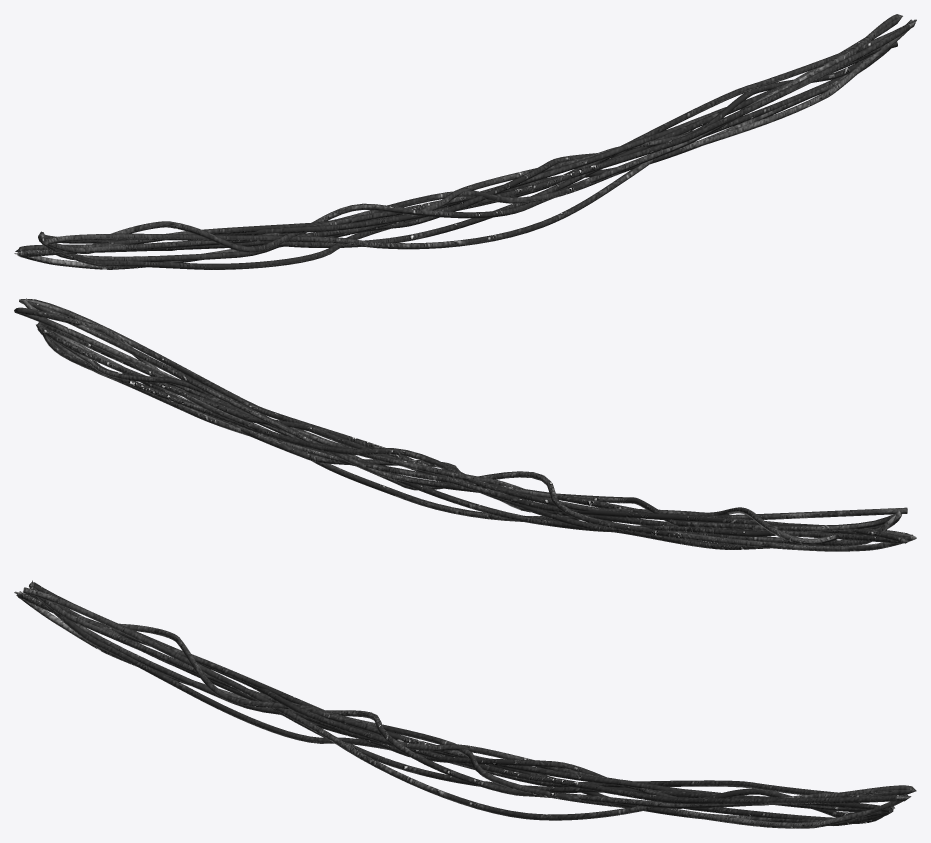
Rendered from Cable3.fbx.
3 renders of one model, top to bottom at view 1: azimuth 30°, elevation 25°; view 2: azimuth 150°, elevation 25°; view 3: azimuth 330°, elevation 25°, orthographic.
Parts seen in each view (by area): view 1: Wire.001; view 2: Wire.001; view 3: Wire.001.
Boxes of the visible parts, x1,y1,x2,y2 form: Wire.001: (14, 14, 916, 269); Wire.001: (14, 298, 916, 551); Wire.001: (14, 580, 916, 828).
Size of the model in its own units: 7855 by 967 by 491.
1 material, 1 textured.
